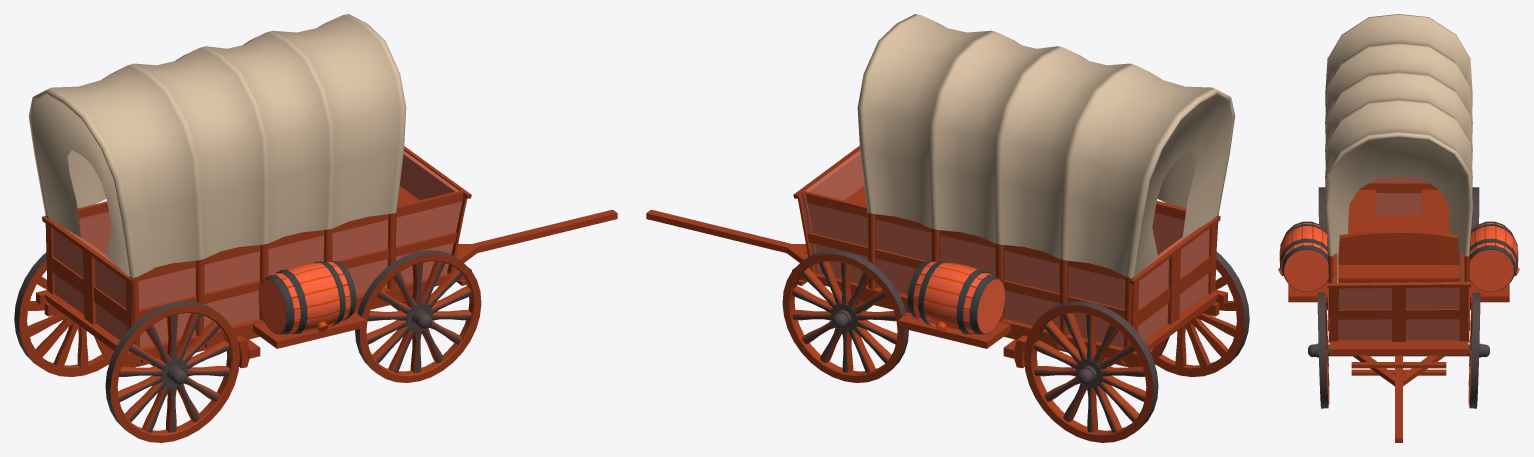
File: low_poly_medieval_wagon_2.glb
3 renders of one model, left to right at view 1: azimuth 30°, elevation 25°; view 2: azimuth 150°, elevation 25°; view 3: azimuth 270°, elevation 25°, orthographic. The views are drawn at different scales.
Parts seen in each view (by area): view 1: Cube.005_Cube.002, Cube.007_Cube.002, Cube.009_Cube.001, Cylinder.001, Cube.008_Cube.002, Cylinder.017, Cube.009_Cube.003, Cylinder.012, Cube.006_Cube.002, Cube.011_Cube.002, Cube.006_Cube.003, Cube.053 (+2 smaller); view 2: Cube.005_Cube.002, Cube.007_Cube.002, Cube.009_Cube.001, Cylinder.001, Cube.008_Cube.002, Cylinder.017, Cube.009_Cube.003, Cylinder.012, Cube.006_Cube.002, Cube.011_Cube.002, Cube.006_Cube.003, Cube.053 (+2 smaller); view 3: Cube.005_Cube.002, Cube.011_Cube.002, Cube.052, Cylinder.017, Cube_Cube.003, Cube.058, Cylinder.012, Cube.008_Cube.002, Cube, Cylinder.001, Cube.053, Cube_Cube.001.003 (+5 smaller).
Boxes of the visible parts, x1,y1,x2,y2 form: Cube.005_Cube.002: [28, 14, 406, 347]; Cube.007_Cube.002: [79, 201, 462, 347]; Cube.009_Cube.001: [27, 277, 230, 432]; Cylinder.001: [14, 252, 239, 442]; Cube.008_Cube.002: [42, 216, 135, 348]; Cylinder.017: [258, 261, 356, 334]; Cube.009_Cube.003: [366, 261, 471, 373]; Cylinder.012: [355, 250, 481, 382]; Cube.006_Cube.002: [77, 190, 463, 280]; Cube.011_Cube.002: [399, 146, 471, 273]; Cube.006_Cube.003: [139, 232, 457, 318]; Cube.053: [456, 209, 617, 253]; Cube.005_Cube.002: [857, 14, 1235, 347]; Cube.007_Cube.002: [807, 203, 1184, 347]; Cube.009_Cube.001: [1033, 277, 1236, 432]; Cylinder.001: [1024, 252, 1249, 442]; Cube.008_Cube.002: [1129, 216, 1220, 348]; Cylinder.017: [907, 261, 1005, 334]; Cube.009_Cube.003: [792, 261, 897, 373]; Cylinder.012: [782, 250, 908, 382]; Cube.006_Cube.002: [802, 190, 1186, 280]; Cube.011_Cube.002: [793, 146, 864, 274]; Cube.006_Cube.003: [807, 232, 1124, 318]; Cube.053: [646, 209, 807, 253]; Cube.005_Cube.002: [1325, 14, 1472, 317]; Cube.011_Cube.002: [1327, 282, 1471, 341]; Cube.052: [1338, 230, 1459, 282]; Cylinder.017: [1278, 221, 1519, 291]; Cube_Cube.003: [1329, 215, 1468, 355]; Cube.058: [1348, 189, 1449, 233]; Cylinder.012: [1317, 292, 1480, 408]; Cube.008_Cube.002: [1359, 176, 1438, 214]; Cube: [1288, 282, 1509, 302]; Cylinder.001: [1318, 187, 1479, 310]; Cube.053: [1395, 355, 1402, 442]; Cube_Cube.001.003: [1351, 362, 1446, 368].
Size of what is drawn, in the model's own units: 3.61 by 2.04 by 1.66.
Materials: 1 (1 with a texture image).
